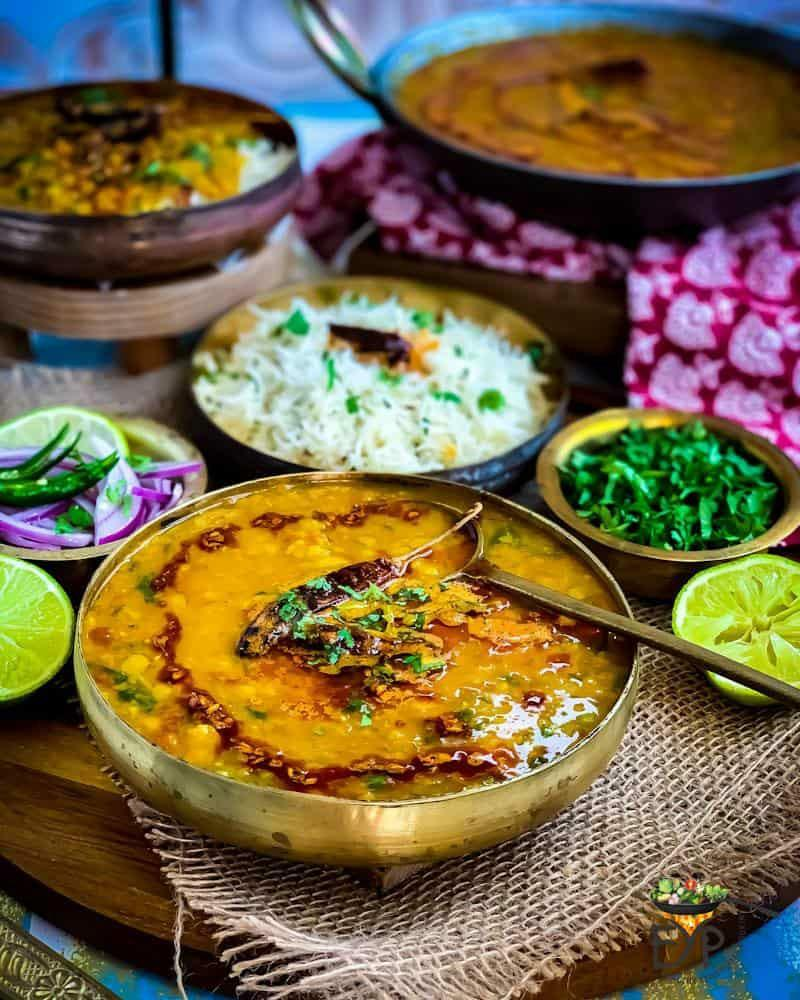Dal: (89, 482, 627, 801)
WhiteRice: (196, 296, 543, 470)
